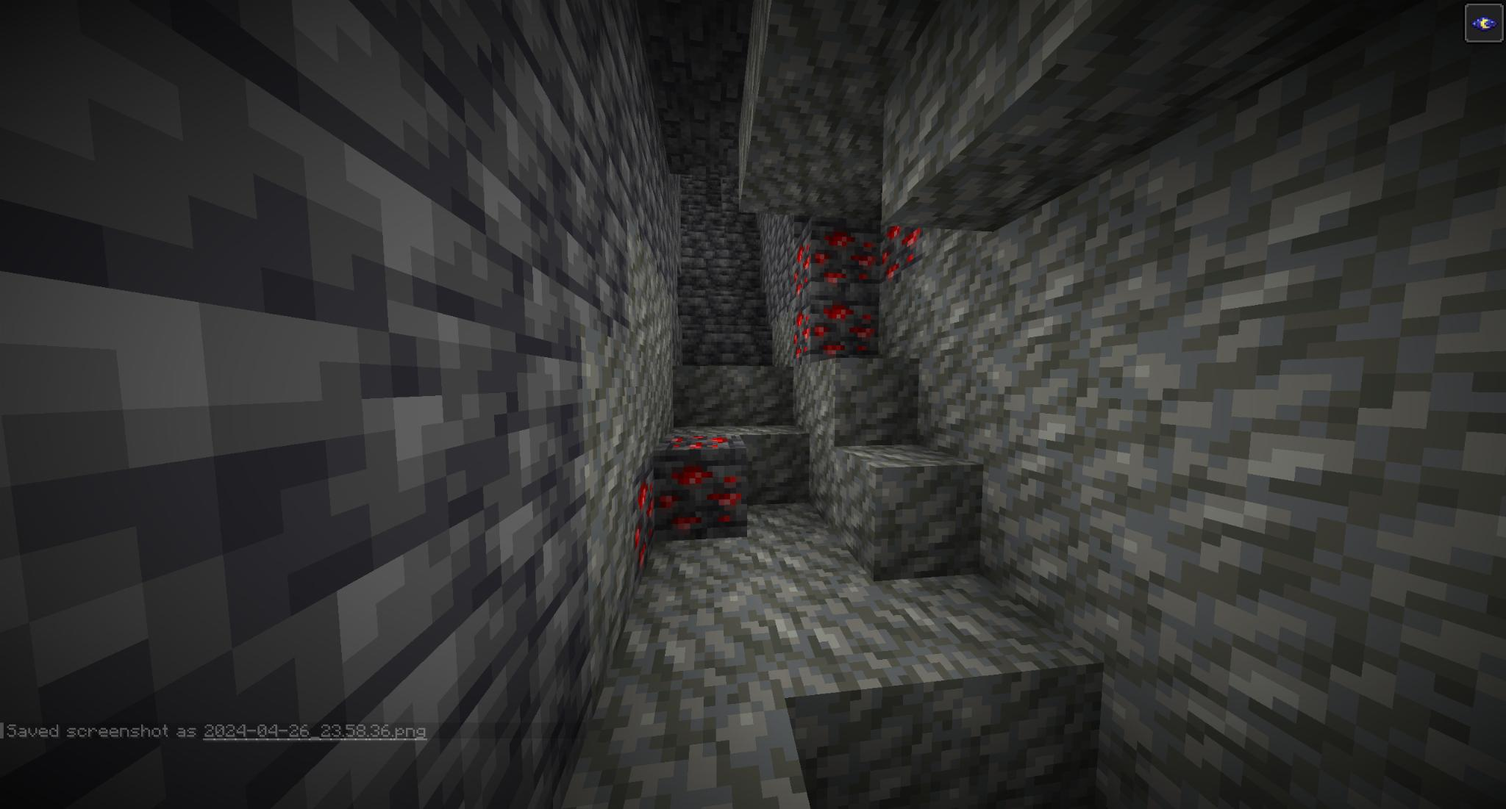redstone ore: (658, 434, 747, 533), (802, 222, 879, 289), (812, 295, 877, 363), (625, 474, 656, 572), (886, 222, 924, 283), (788, 308, 812, 359), (794, 237, 809, 294)
